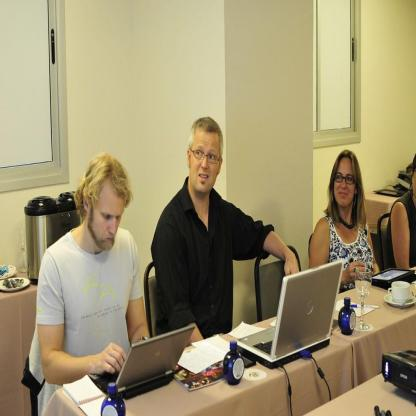board: (241, 266, 361, 374), (89, 326, 195, 401), (223, 339, 244, 384), (100, 383, 126, 416), (339, 296, 356, 336)
